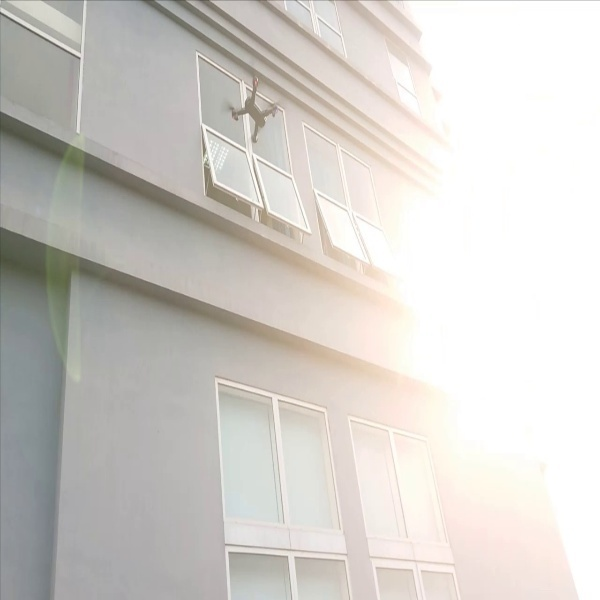drone: (218, 69, 283, 148)
